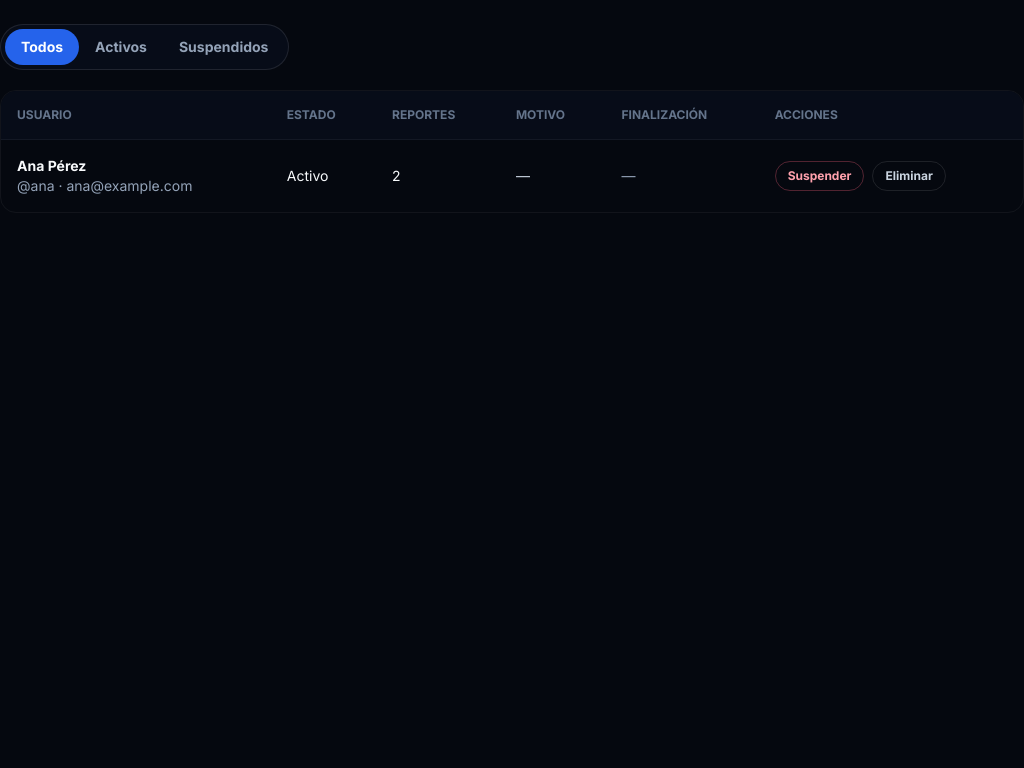
Test: UsuariosSeccion › mantiene el diálogo abierto y muestra el error del backend
Click the button "Eliminar": click(909, 176) 872,161 -> 946,191
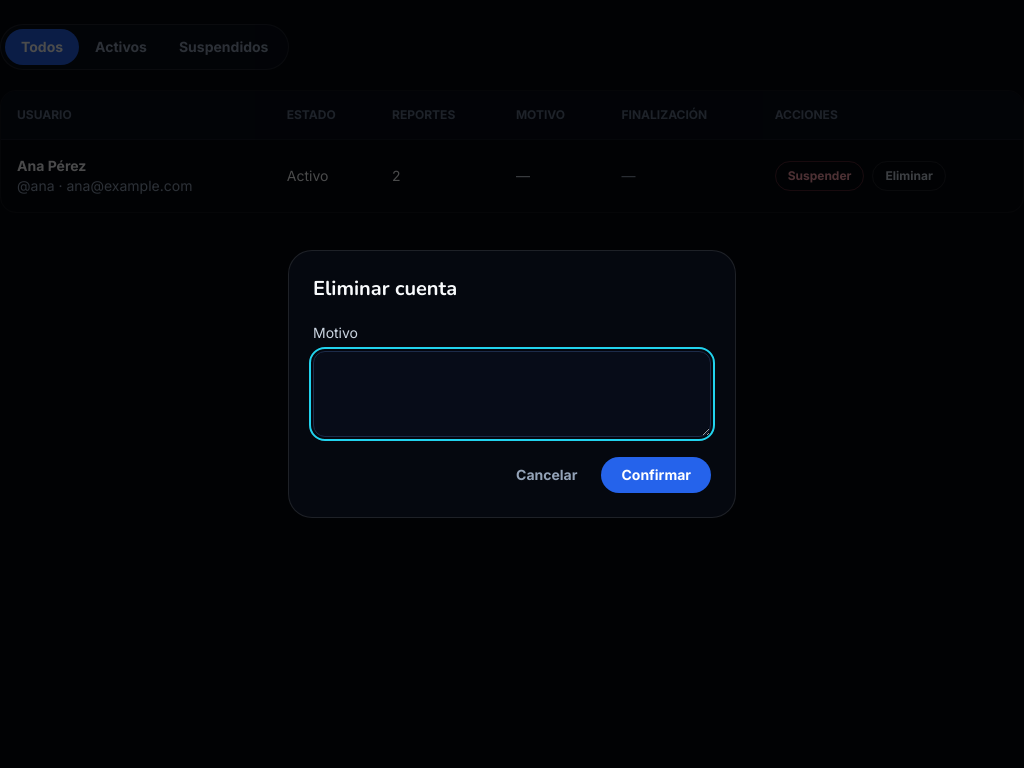
In the text box labelled "Motivo": (512, 394) 313,351 -> 711,437, type "Intento de baja"
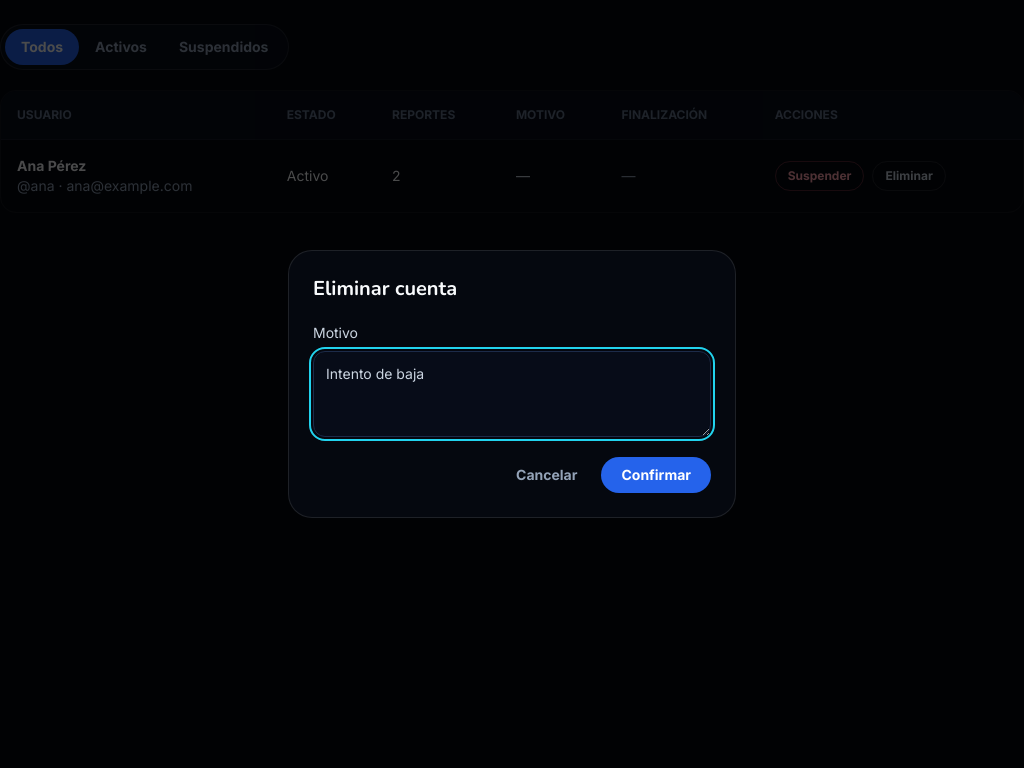
Click the button "Confirmar": click(656, 475) 601,457 -> 711,493
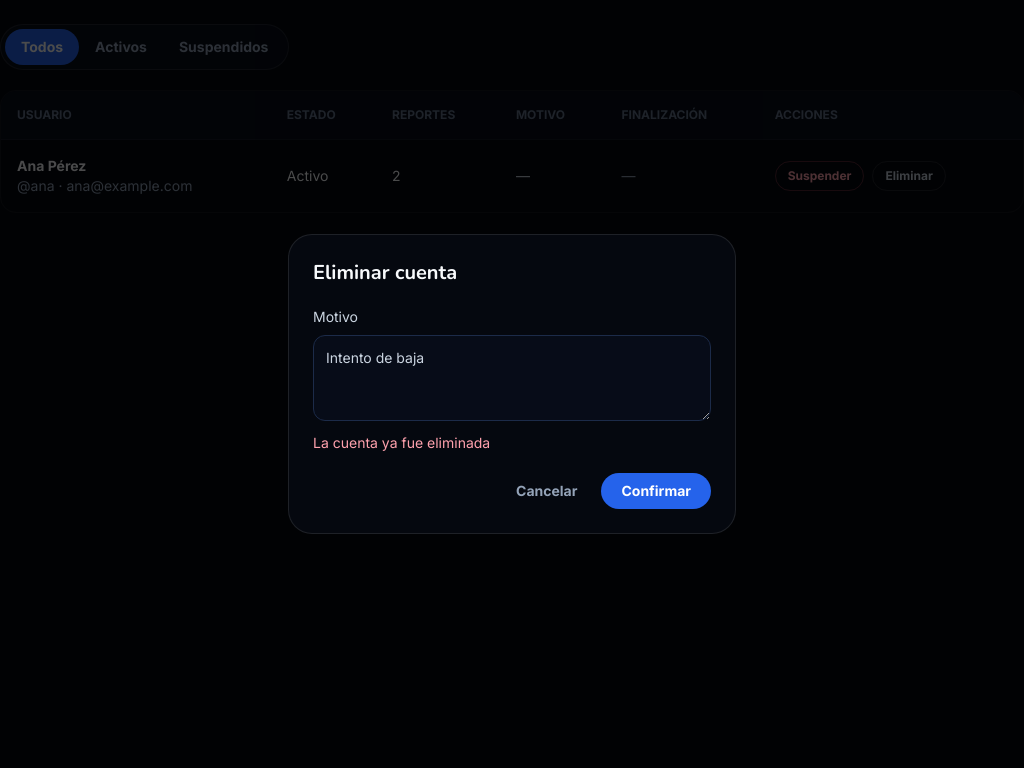
Expected: the dialog is shown, 288,234 -> 736,534
Expected: the message reads "La cuenta ya fue eliminada", 313,434 -> 490,451
